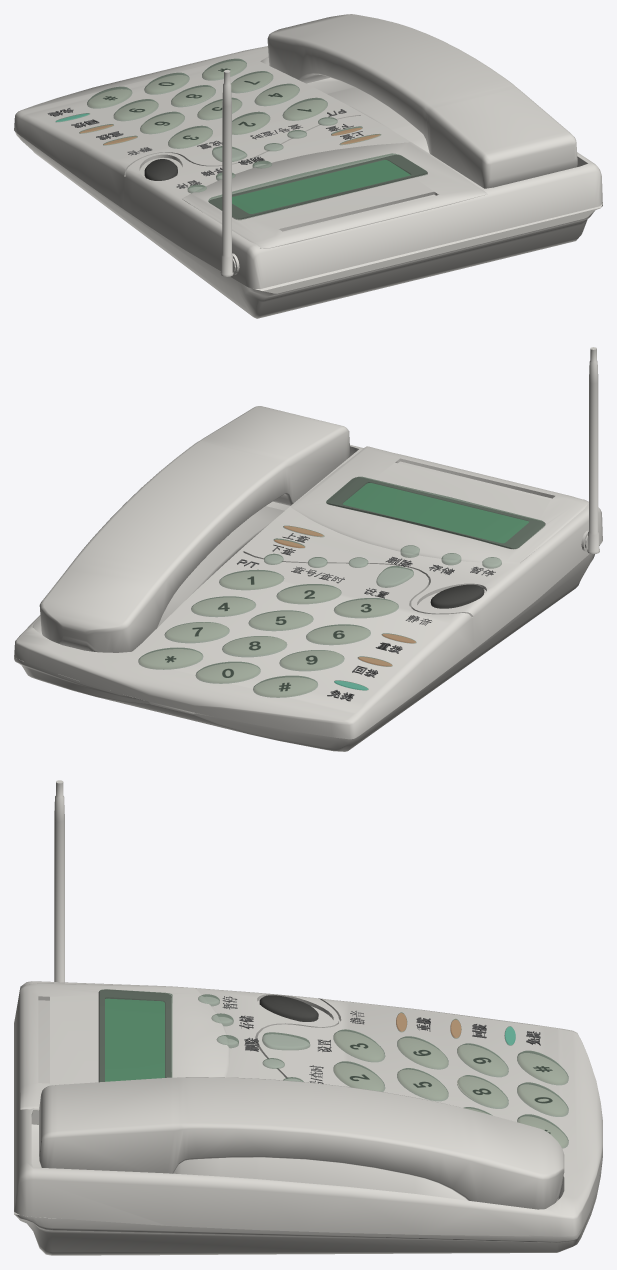
Rendered from nvzhiyuan@phone_mod.fbx.
3 renders of one model, top to bottom at view 1: azimuth 30°, elevation 25°; view 2: azimuth 150°, elevation 25°; view 3: azimuth 270°, elevation 25°, orthographic. The views are drawn at different scales.
Parts seen in each view (by area): view 1: dianhua1:Object34, dianhua1:Loft10, dianhua1:Shape073, dianhua1:Box001, dianhua1:Object059, dianhua1:Object058, dianhua1:Text60, dianhua1:Object062, dianhua1:Object060, dianhua1:Object37, dianhua1:Object064, dianhua1:Object065 (+9 smaller); view 2: dianhua1:Object34, dianhua1:Loft10, dianhua1:Shape073, dianhua1:Box001, dianhua1:Object059, dianhua1:Object058, dianhua1:Text60, dianhua1:Object069, dianhua1:Object070, dianhua1:Object071, dianhua1:Object066, dianhua1:Object067 (+9 smaller); view 3: dianhua1:Object34, dianhua1:Loft10, dianhua1:Shape073, dianhua1:Box001, dianhua1:Object059, dianhua1:Object058, dianhua1:Text60, dianhua1:Object37, dianhua1:Object063, dianhua1:Object068, dianhua1:Object062, dianhua1:Object064 (+4 smaller).
Boxes of the visible parts, x1,y1,x2,y2 form: dianhua1:Object34: (14,46,602,318); dianhua1:Loft10: (267,14,577,188); dianhua1:Shape073: (55,58,381,193); dianhua1:Box001: (208,153,427,220); dianhua1:Object059: (232,160,410,213); dianhua1:Object058: (208,155,427,219); dianhua1:Text60: (47,108,363,188); dianhua1:Object062: (169,127,212,147); dianhua1:Object060: (283,100,326,120); dianhua1:Object37: (144,159,177,180); dianhua1:Object064: (140,113,184,133); dianhua1:Object065: (255,85,298,105); dianhua1:Object34: (14,347,602,751); dianhua1:Loft10: (39,406,349,652); dianhua1:Shape073: (138,525,501,697); dianhua1:Box001: (326,476,545,549); dianhua1:Object059: (343,483,528,543); dianhua1:Object058: (326,477,545,548); dianhua1:Text60: (237,533,495,701); dianhua1:Object069: (139,649,202,668); dianhua1:Object070: (197,663,259,682); dianhua1:Object071: (254,677,316,697); dianhua1:Object066: (280,650,343,670); dianhua1:Object067: (166,622,228,641); dianhua1:Object34: (14,780,602,1255); dianhua1:Loft10: (39,1077,564,1209); dianhua1:Shape073: (198,994,568,1148); dianhua1:Box001: (99,989,172,1081); dianhua1:Object059: (105,998,164,1081); dianhua1:Object058: (98,989,171,1082); dianhua1:Text60: (222,996,540,1083); dianhua1:Object37: (259,995,318,1021); dianhua1:Object063: (397,1069,447,1099); dianhua1:Object068: (457,1076,507,1107); dianhua1:Object062: (334,1031,384,1061); dianhua1:Object064: (398,1038,447,1068).
Size of the model in its own units: 25.33 by 16.55 by 31.11.
Materials: 19 (12 with a texture image).
